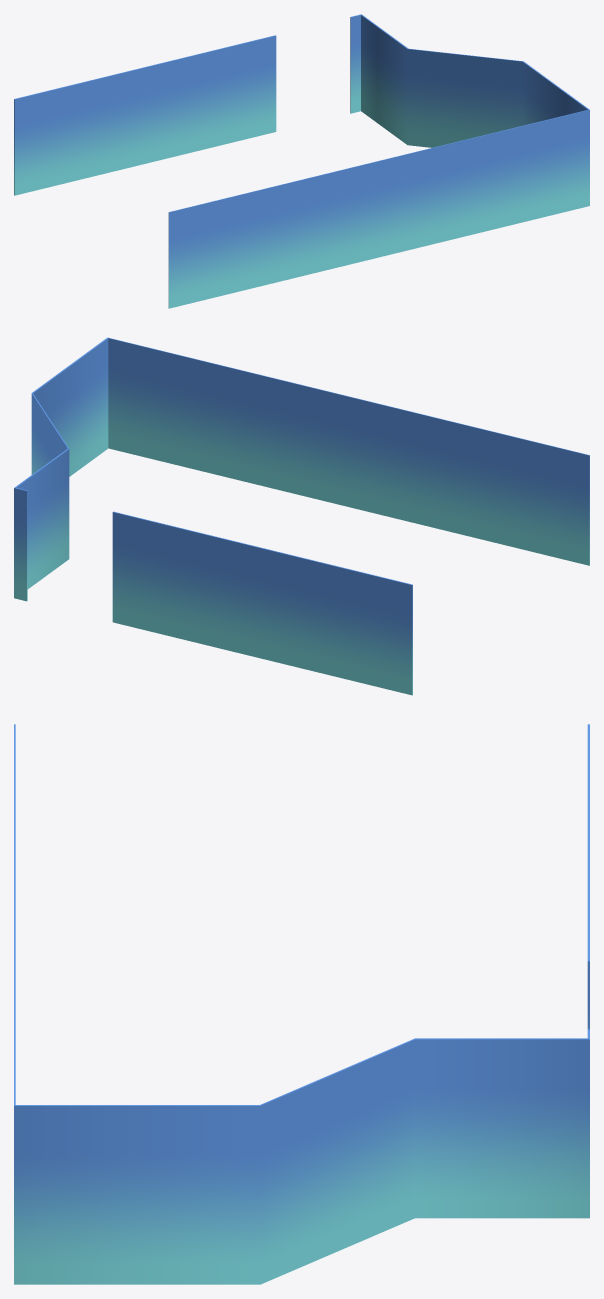
File: SM_GameArea_Wall_05_Glass.fbx
The picture shows the model from 3 angles, top to bottom: view 1: azimuth 30°, elevation 25°; view 2: azimuth 150°, elevation 25°; view 3: azimuth 270°, elevation 25°; orthographic projection. The views are drawn at different scales.
Visible parts, largest first — view 1: SM_GameArea_Wall_05_Glass; view 2: SM_GameArea_Wall_05_Glass; view 3: SM_GameArea_Wall_05_Glass.
Boxes of the visible parts, x1,y1,x2,y2 form: SM_GameArea_Wall_05_Glass: (14,14,589,308); SM_GameArea_Wall_05_Glass: (14,337,589,695); SM_GameArea_Wall_05_Glass: (14,724,589,1284).
Size of the model in its own units: 37.93 by 8.29 by 24.19.
1 material, 1 textured.
